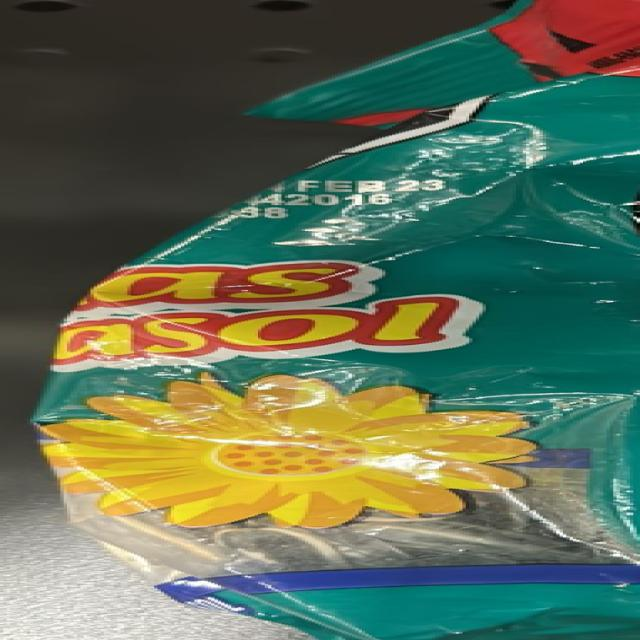semillasGirasol: (81, 100, 640, 610)
